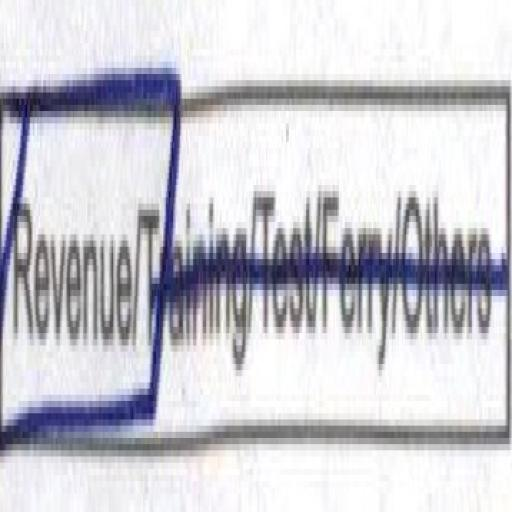check: (0, 19, 139, 481)
